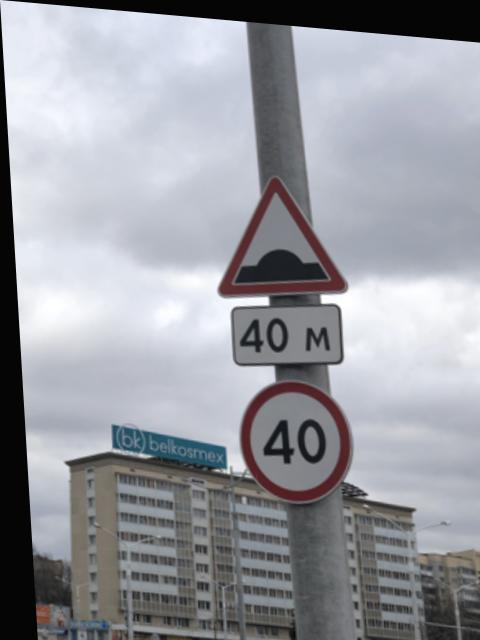limit40: (227, 370, 352, 506)
